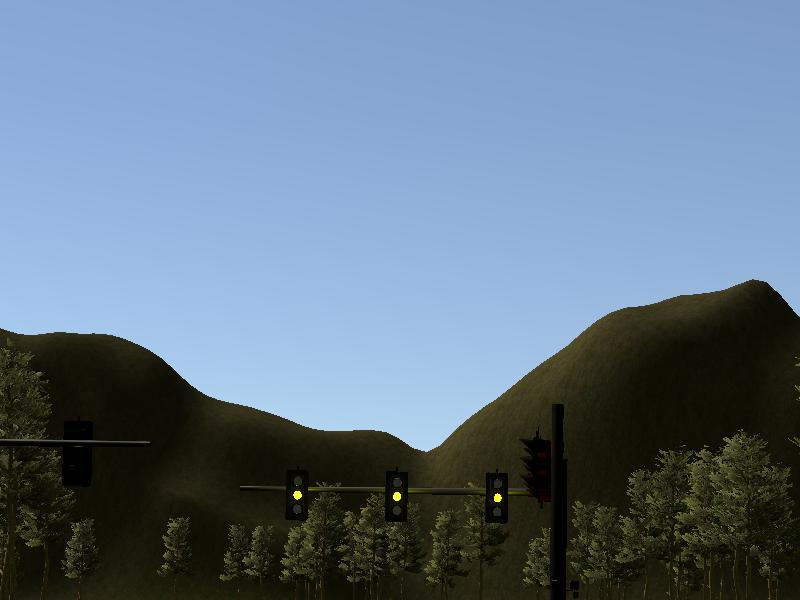Yellow: (486, 472, 508, 524), (387, 471, 408, 520), (288, 471, 308, 519)
